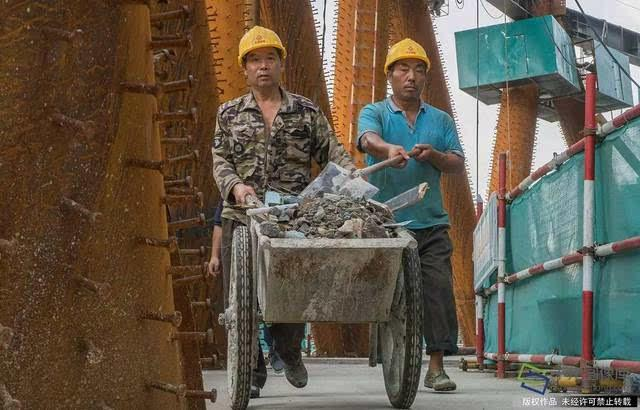helmet: (240, 20, 292, 65), (385, 37, 432, 72)
